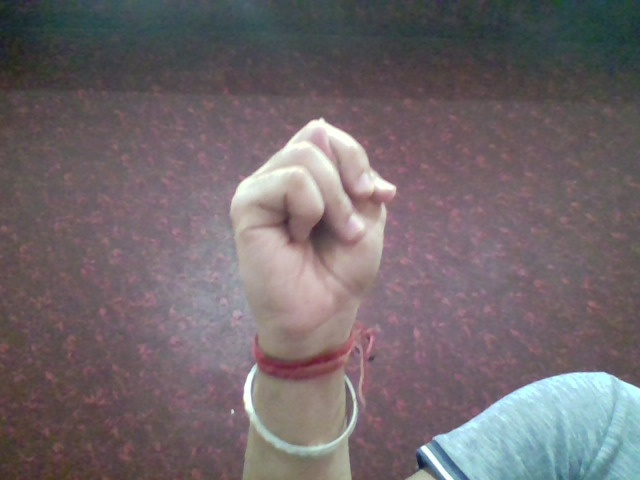n: (217, 108, 419, 355)
